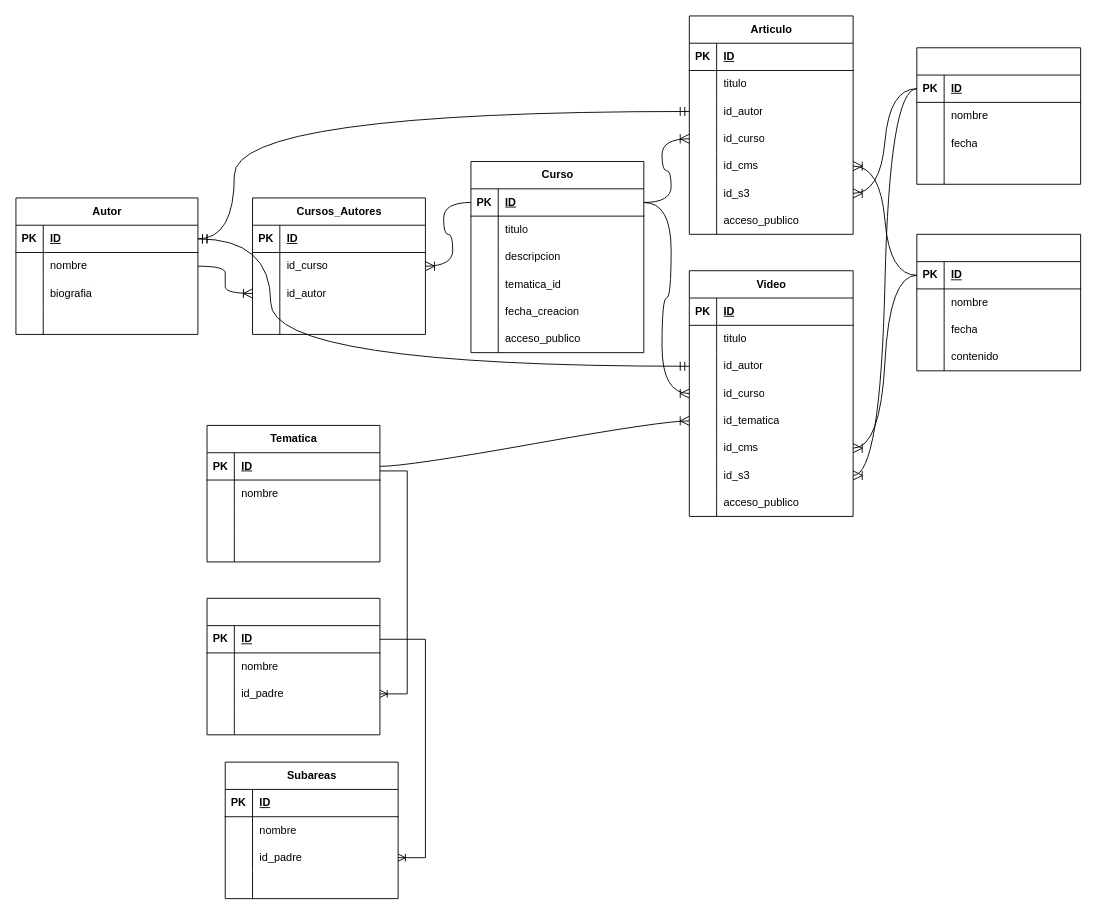
This 1097x915 diagram has some shape labels left out. Each missing label, with the box of its shape:
Areas: (206, 597, 380, 735)
CMS: (916, 233, 1081, 371)
S3: (916, 47, 1081, 184)
